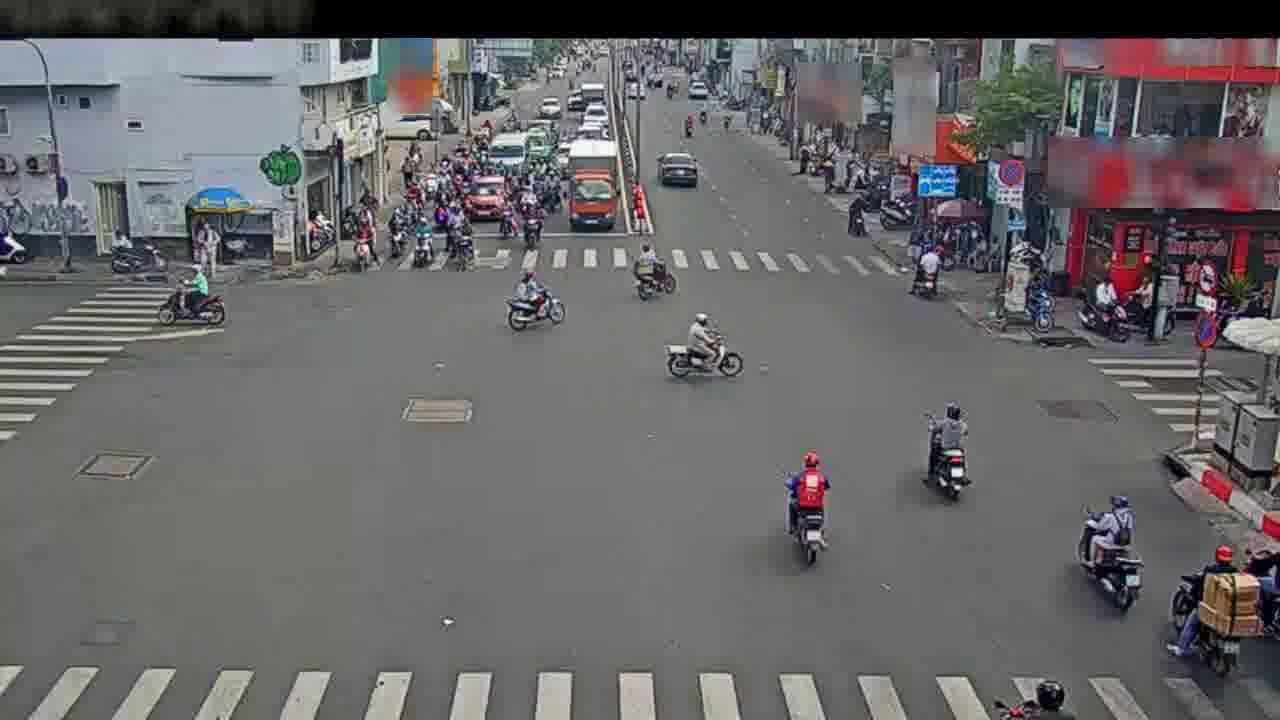8: (562, 136, 623, 229)
container: (464, 170, 511, 221), (654, 147, 698, 197)
motorbike: (1167, 542, 1243, 687), (1078, 484, 1138, 608), (663, 306, 739, 384), (785, 446, 830, 566), (924, 400, 968, 504), (160, 262, 225, 330), (508, 263, 558, 333), (631, 243, 676, 307), (904, 238, 944, 307), (445, 212, 477, 278), (348, 213, 377, 280), (841, 189, 872, 245), (410, 213, 436, 276), (383, 204, 409, 266), (521, 198, 544, 255)
